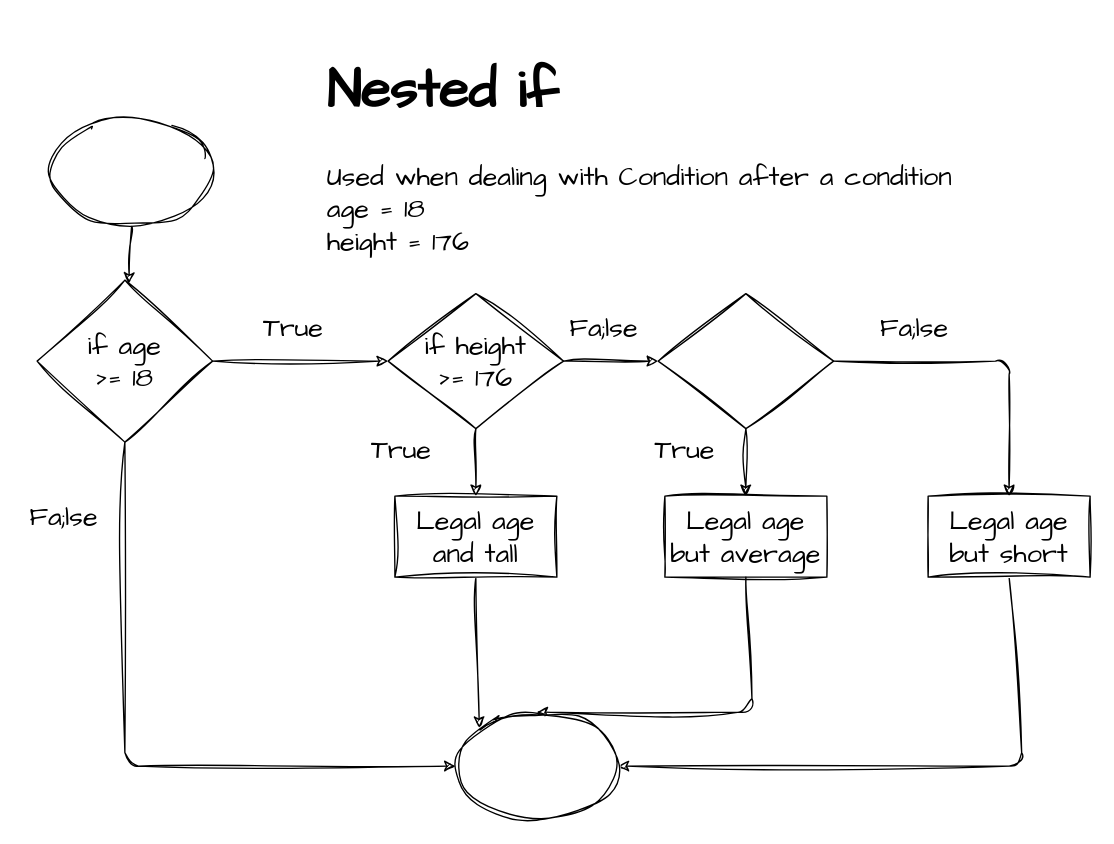
Some shapes in this 1114 by 844 pixel diagram are drawn without their labels. Each missing label, with the box of its shape:
End: (454, 711, 618, 820)
if height >= 150: (657, 292, 834, 429)
Start: (49, 117, 213, 226)
